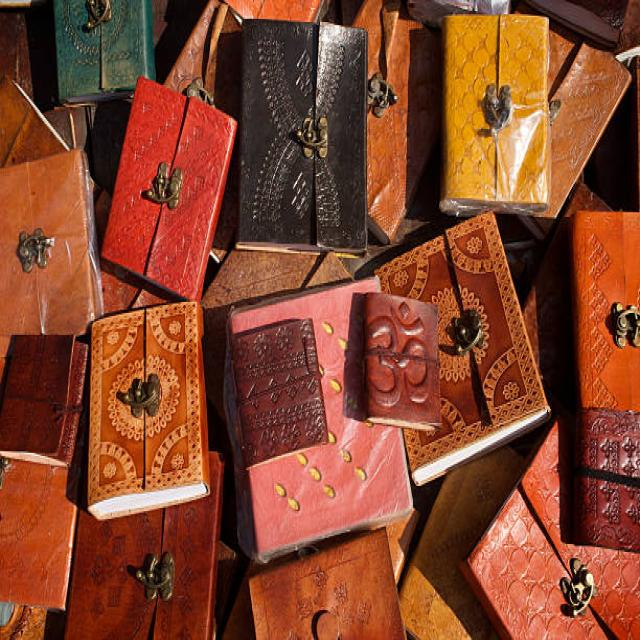electronic: (223, 275, 414, 565), (371, 209, 551, 486), (458, 412, 639, 638), (100, 74, 238, 303), (235, 17, 367, 253), (86, 299, 210, 520), (438, 11, 550, 215), (348, 0, 440, 244), (0, 146, 104, 337), (569, 209, 639, 412), (342, 290, 441, 432)
